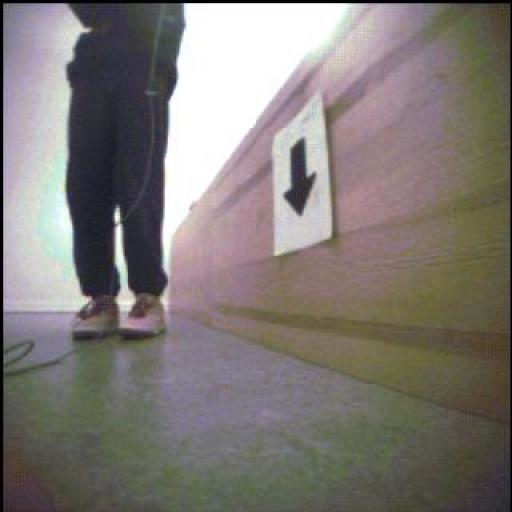Arrow: (284, 139, 318, 217)
